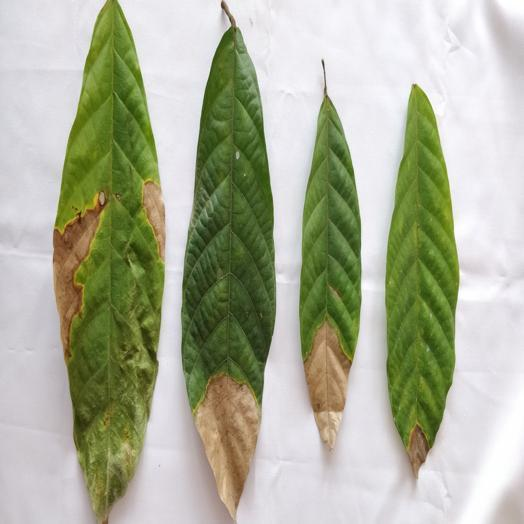Potassium: (53, 0, 164, 523), (181, 0, 275, 518), (387, 85, 458, 476), (299, 60, 360, 449)
